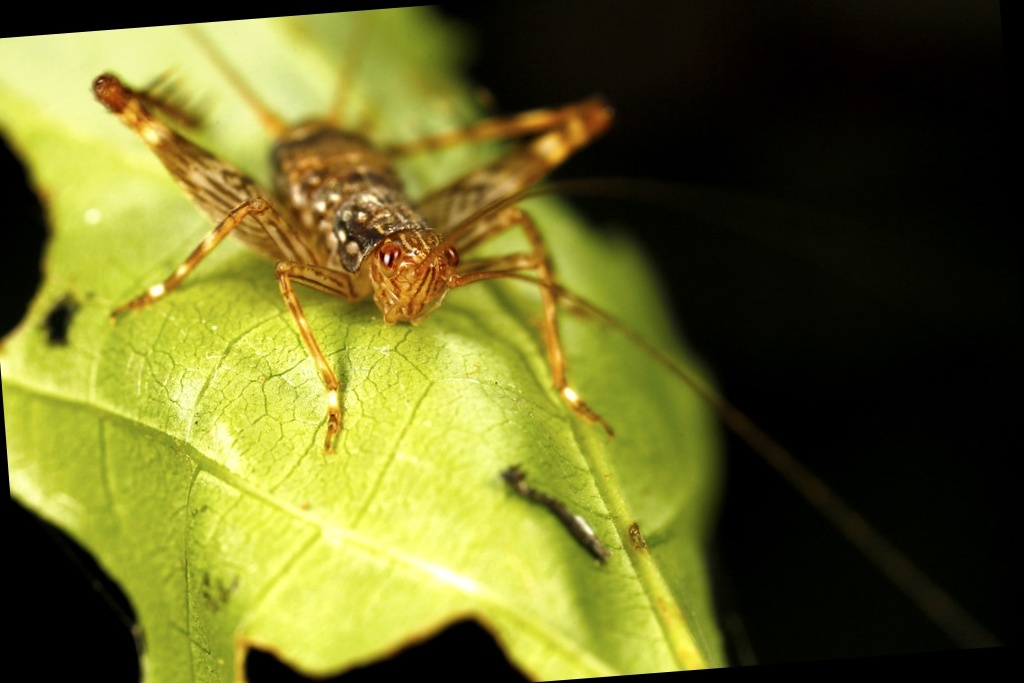Brown_hopper: (88, 32, 572, 409)
